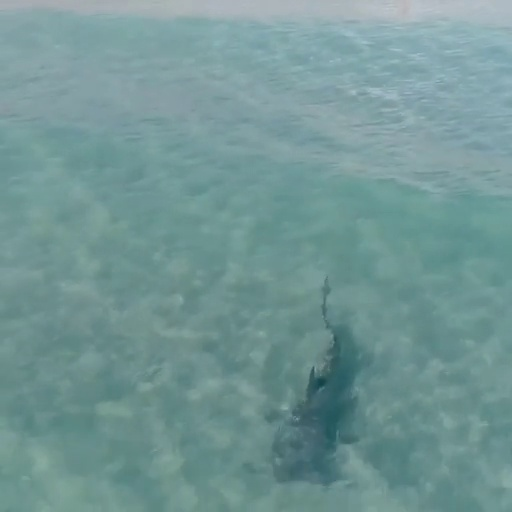shark: (258, 272, 365, 485)
